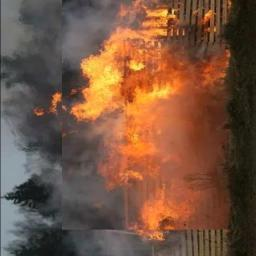Low smoke: (10, 3, 115, 251)
Medium fire: (83, 4, 231, 231)
